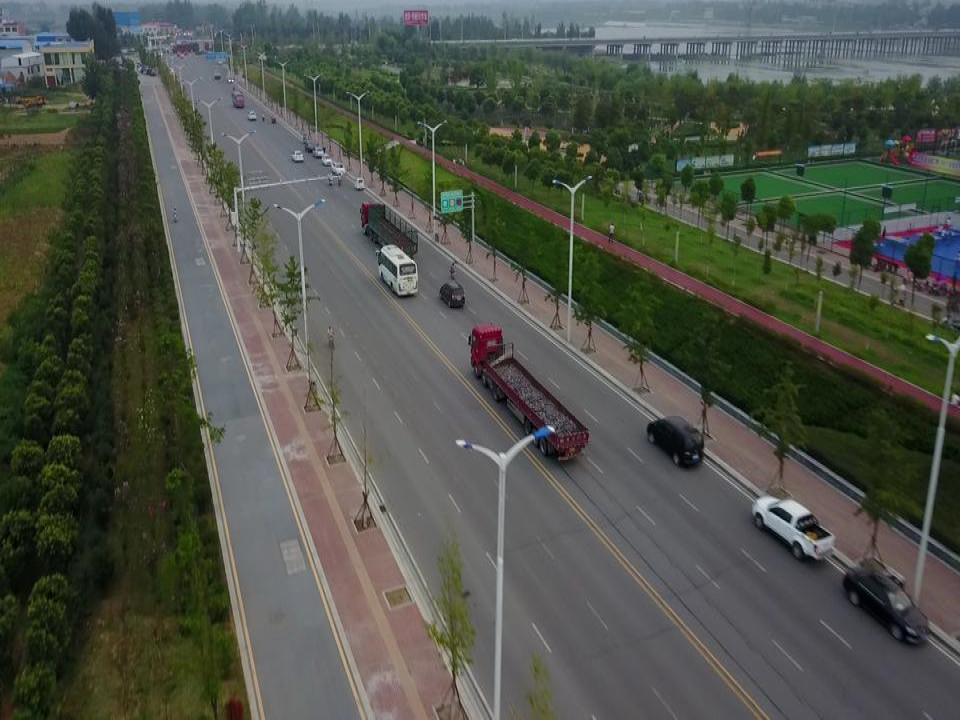bus: (374, 241, 423, 300)
car: (839, 552, 937, 651), (641, 404, 708, 472), (291, 147, 306, 164), (330, 160, 345, 175), (352, 177, 367, 192), (246, 109, 259, 123), (321, 152, 332, 167), (312, 145, 323, 159), (305, 141, 317, 152), (269, 118, 278, 126)
truck: (467, 321, 594, 463), (750, 485, 841, 562), (359, 197, 419, 258)
van: (438, 277, 467, 312)
